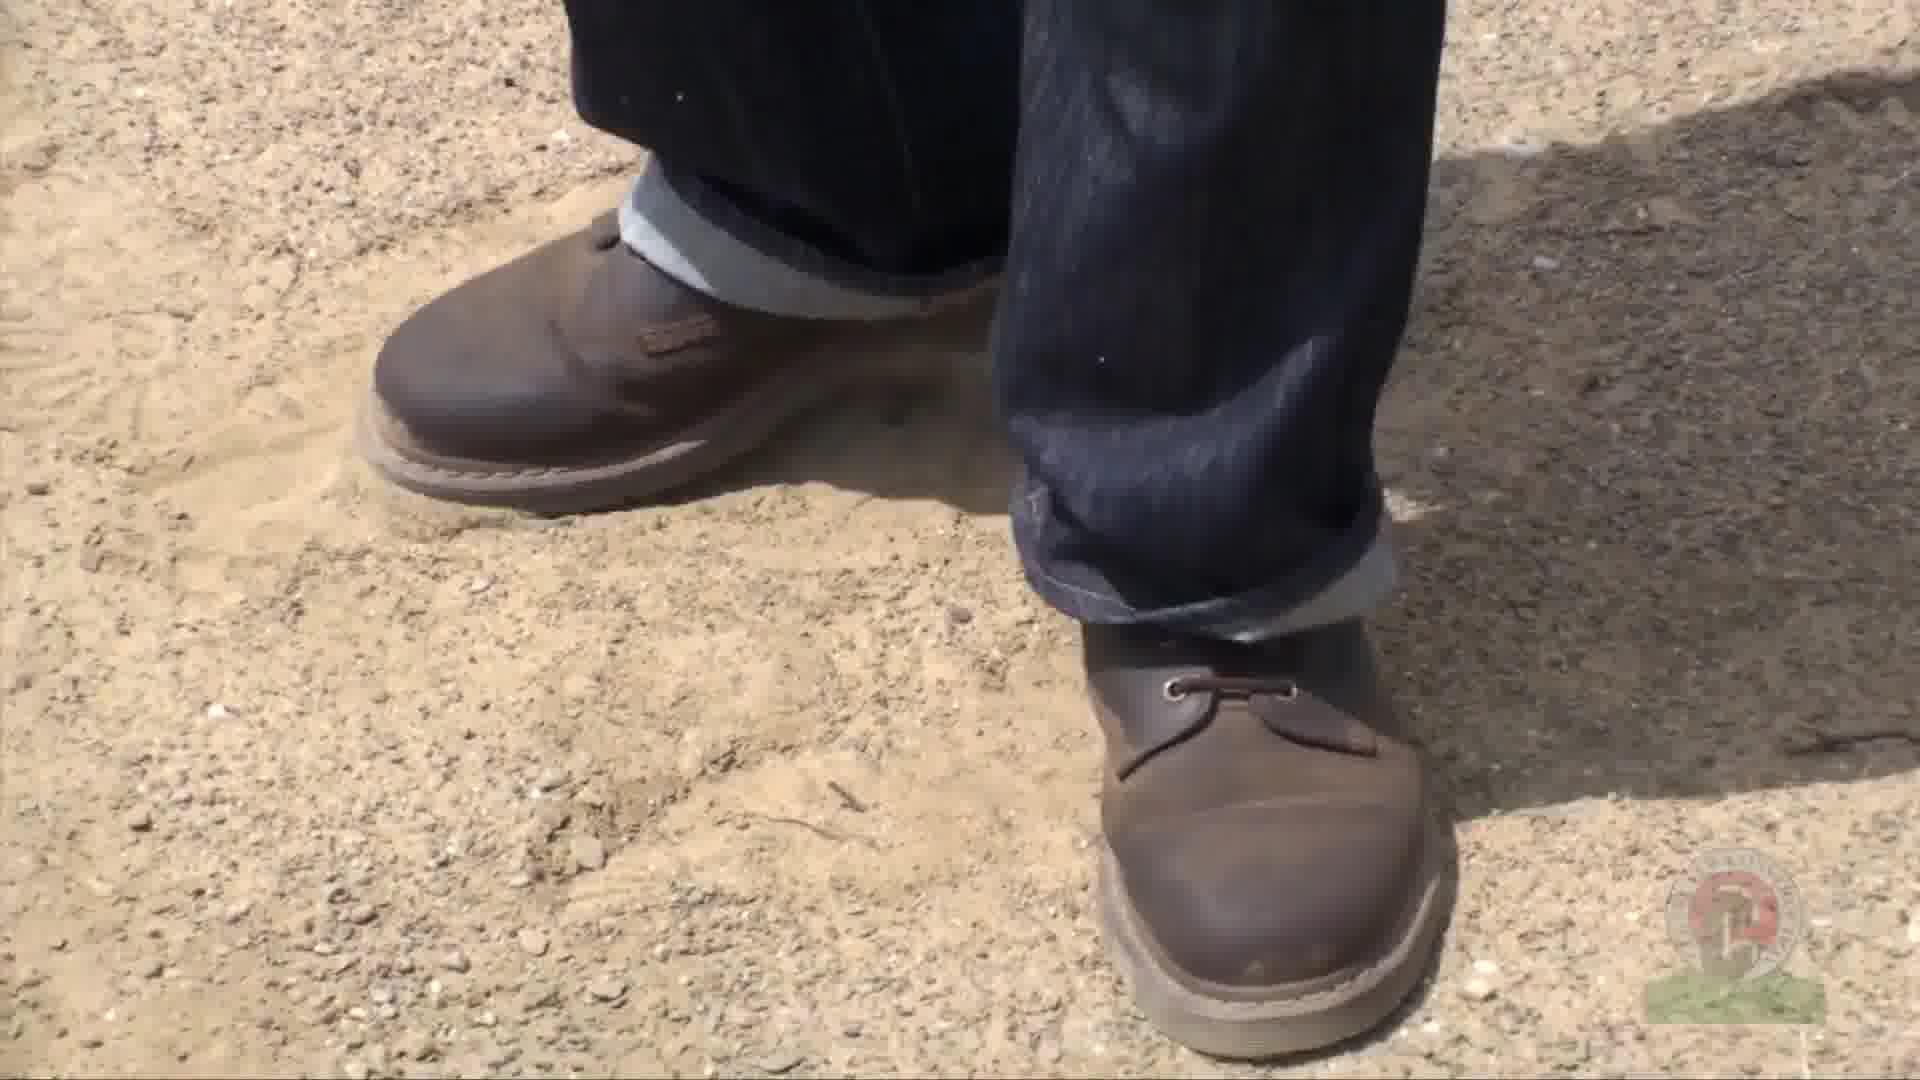safety boot: (345, 94, 1447, 1079)
